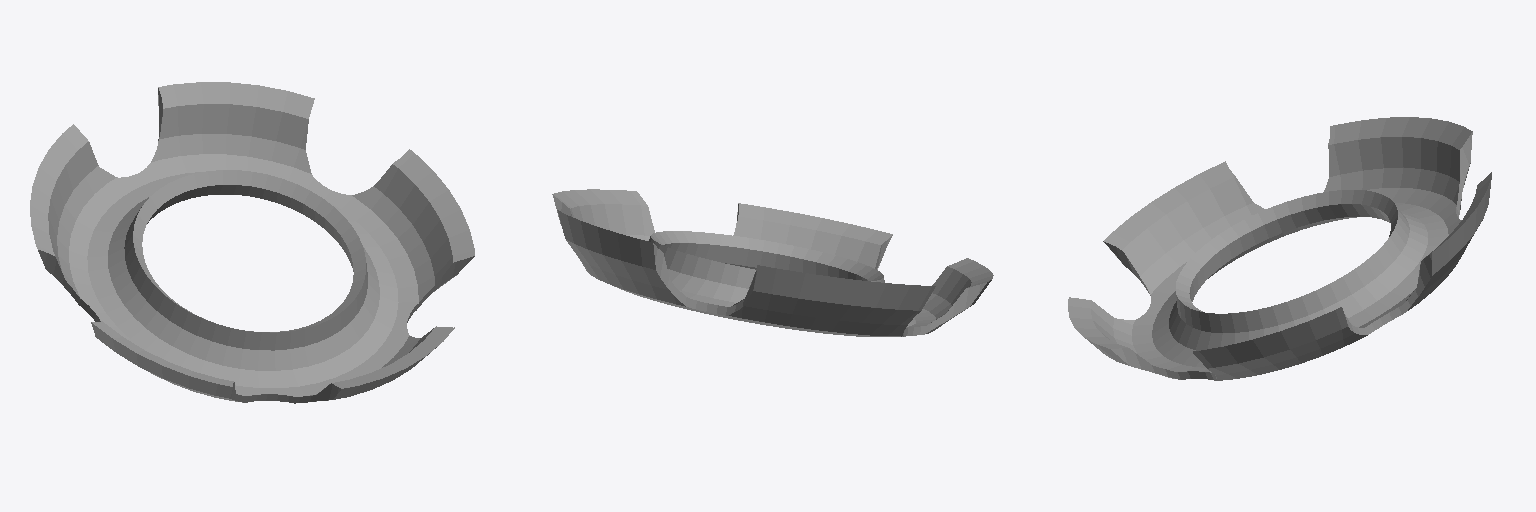
The model's file is blender_blade.obj.
The picture shows the model from 3 angles: view 1: azimuth 30°, elevation 25°; view 2: azimuth 150°, elevation 25°; view 3: azimuth 270°, elevation 25°; orthographic projection.
Parts seen in each view (by area): view 1: Torus; view 2: Torus; view 3: Torus.
Part boxes in pixels (x1,y1,x2,y2): Torus: (30,82,474,403); Torus: (552,189,993,336); Torus: (1068,117,1491,380).
Size of the model in its own units: 2.83 by 1.24 by 2.69.